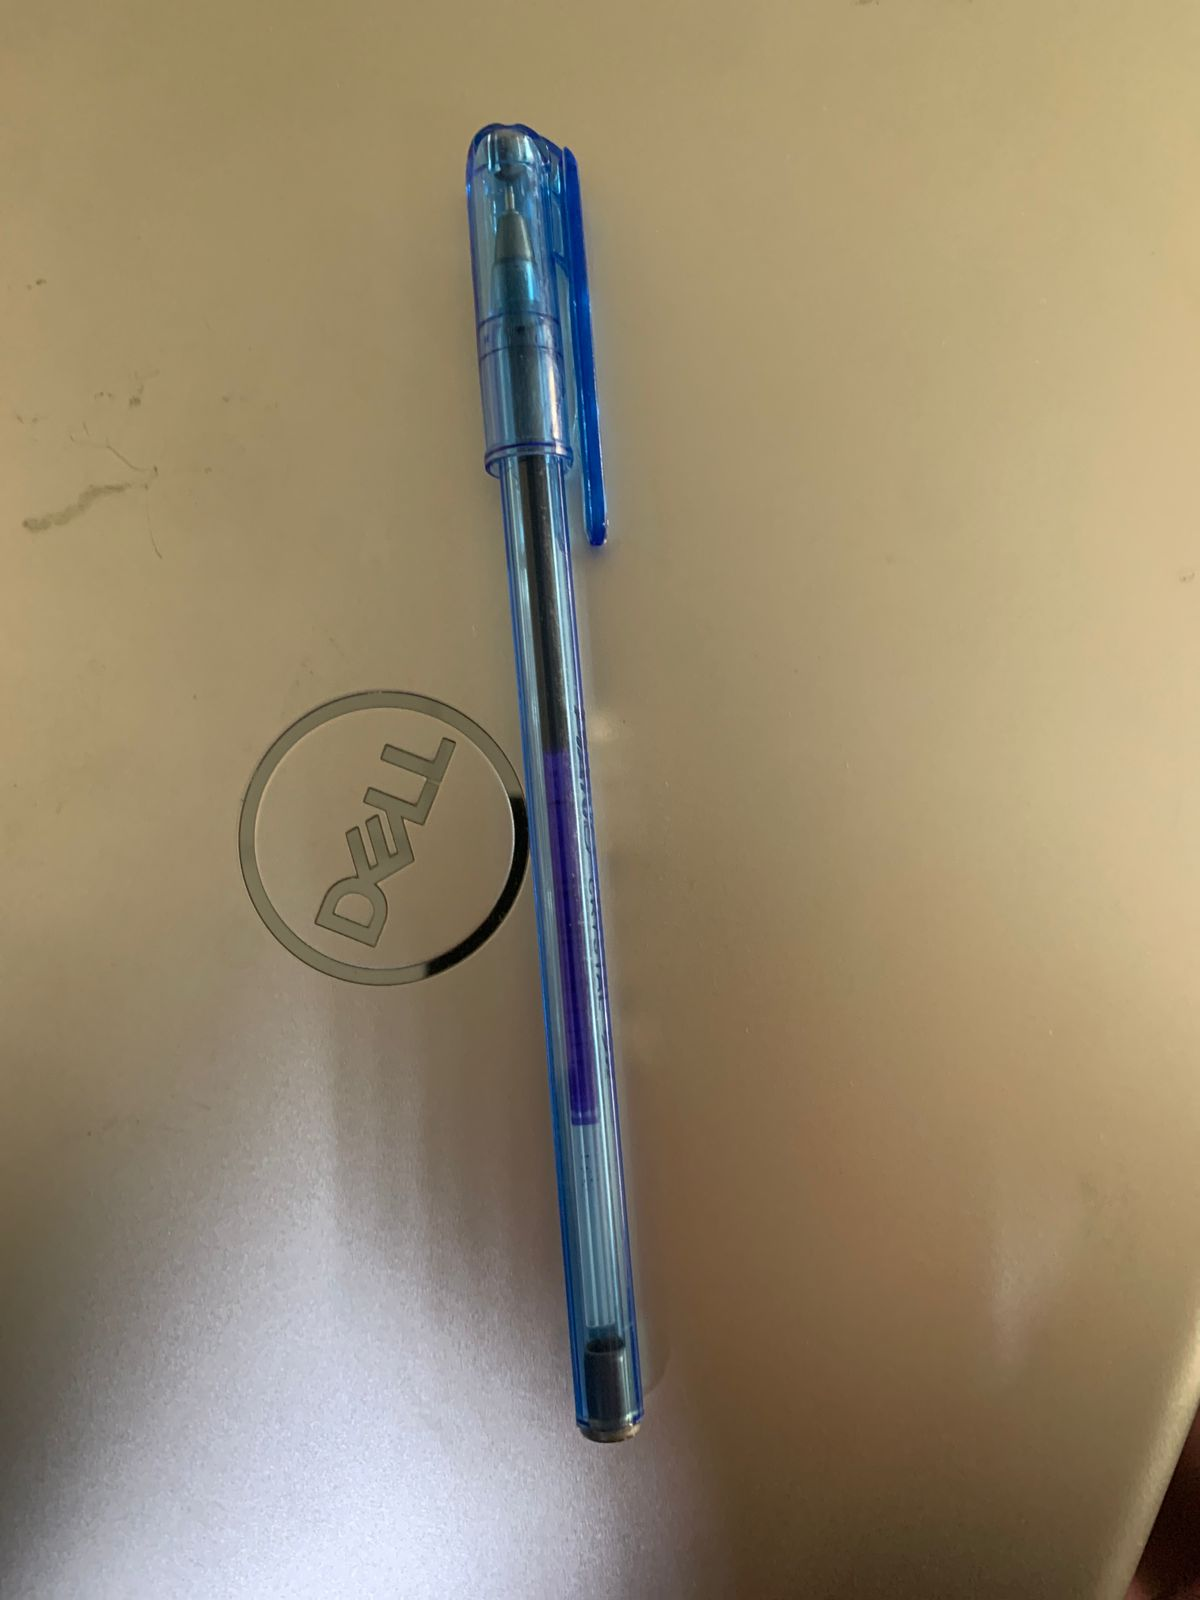pen: (321, 74, 872, 1527)
